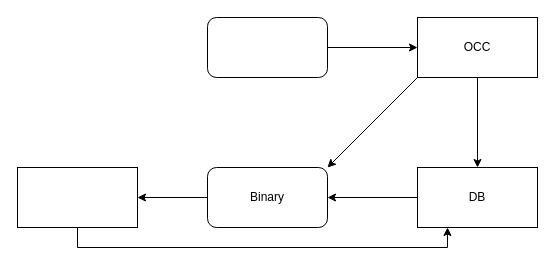
Some shapes in this 555 by 273 pixel diagram are drawn without their labels. Each missing label, with the centre of its shape:
"render" belongs at point (77, 197).
"step" belongs at point (267, 47).
